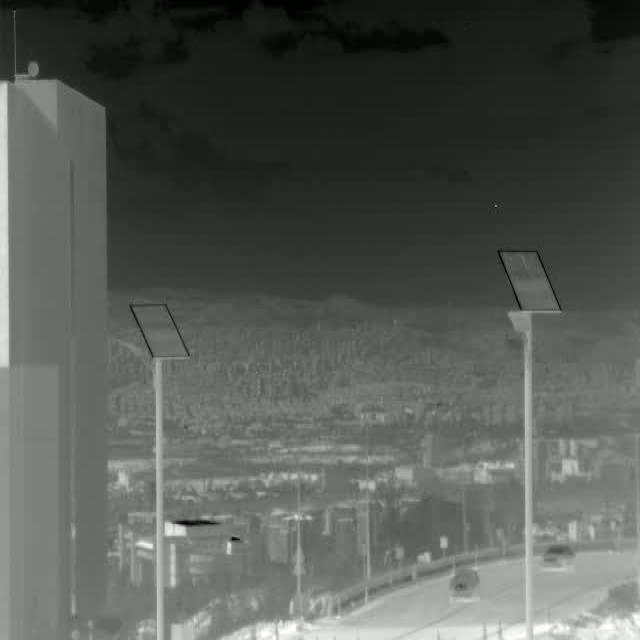Car: (446, 565, 483, 603), (539, 540, 578, 572)
